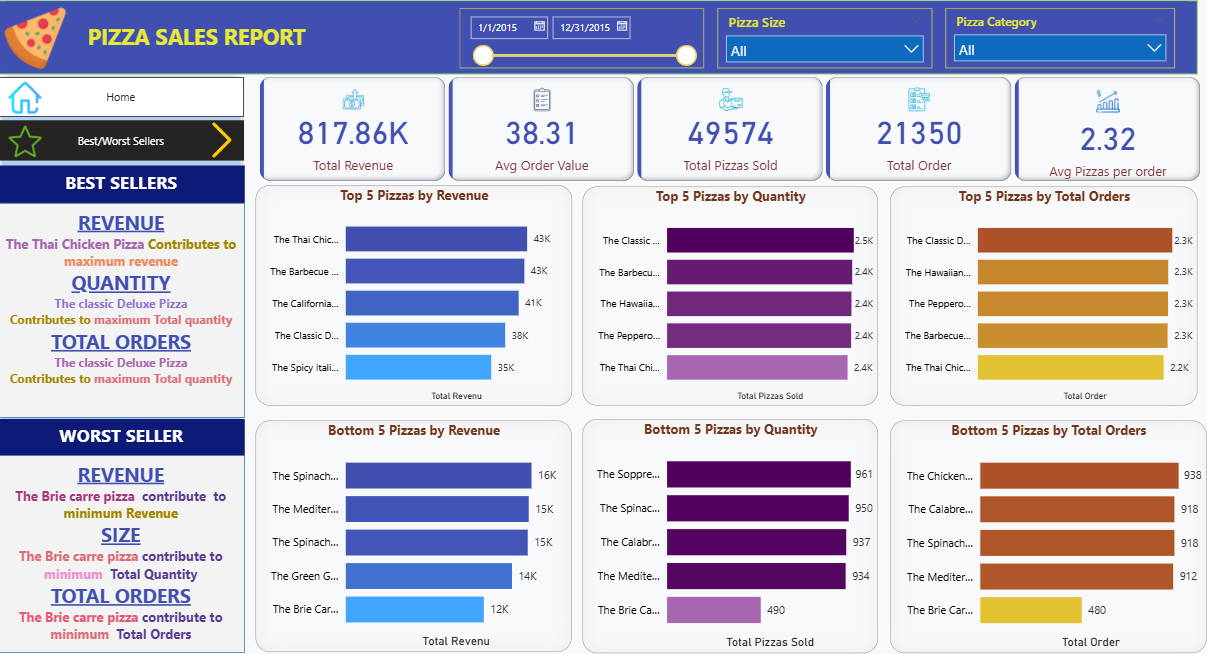

This screenshot's page, from the dashboard's own definition file:
{"tool":"powerbi","page":{"name":"Best/Worst Sellers","canvas":[1500,820],"ordinal":1},"visuals":[{"type":"cardVisual","fields":{"Data":["public pizza_sales.Total Revenu","public pizza_sales.Avg Order Value","public pizza_sales.Total Pizzas Sold","public pizza_sales.Total Order","public pizza_sales.Avg Pizzas per order"]},"box":[330.1,90.4,1169.2,138.3],"z":0},{"type":"shape","box":[12.9,1.8,1475.3,90.4],"z":1000},{"type":"textbox","box":[101.9,22.2,313,51.9],"z":2000},{"type":"image","box":[0,3.7,118.5,88.9],"z":3000},{"type":"slicer","fields":{"Values":["public pizza_sales.pizza_category"]},"box":[1178.4,11.1,282.2,73.8],"z":4000},{"type":"slicer","fields":{"Values":["public pizza_sales.pizza_size"]},"box":[898.1,11.1,263.7,73.8],"z":5000},{"type":"shape","box":[12.9,92.2,304.3,711.8],"z":6000},{"type":"textbox","box":[12.9,204.7,304.3,46.1],"z":7000},{"type":"textbox","box":[12.9,250.8,304.3,263.7],"z":8000},{"type":"textbox","box":[12.9,516.4,304.3,46.1],"z":9000},{"type":"textbox","box":[13.2,560.4,303.8,243.4],"z":10000},{"type":"slicer","fields":{"Values":["public pizza_sales.order_date"]},"box":[580.9,11.1,300.6,73.8],"z":11000},{"type":"barChart","title":"Top 5 Pizzas by Revenue","fields":{"Category":["public pizza_sales.pizza_name"],"Y":["public pizza_sales.Total Revenu"]},"box":[330.1,228.7,389.1,271.1],"z":12000},{"type":"barChart","title":"Bottom 5 Pizzas by Revenue","fields":{"Category":["public pizza_sales.pizza_name"],"Y":["public pizza_sales.Total Revenu"]},"box":[330.2,518.9,388.7,284.9],"z":13000},{"type":"barChart","title":"Top 5 Pizzas by Quantity","fields":{"Category":["public pizza_sales.pizza_name"],"Y":["public pizza_sales.Total Pizzas Sold"]},"box":[732.1,230.5,363.3,269.2],"z":14000},{"type":"barChart","title":"Top 5 Pizzas by Total Orders","fields":{"Category":["public pizza_sales.pizza_name"],"Y":["public pizza_sales.Total Order"]},"box":[1110.2,230.5,378,269.2],"z":15000},{"type":"barChart","title":"Bottom 5 Pizzas by Quantity","fields":{"Category":["public pizza_sales.pizza_name"],"Y":["public pizza_sales.Total Pizzas Sold"]},"box":[732.1,516.4,363.3,287.7],"z":16000},{"type":"barChart","title":"Bottom 5 Pizzas by Total Orders","fields":{"Category":["public pizza_sales.pizza_name"],"Y":["public pizza_sales.Total Order"]},"box":[1110.2,518.2,389.1,285.8],"z":17000},{"type":"pageNavigator","box":[13.2,96.2,303.8,49.1],"z":18000},{"type":"pageNavigator","box":[13.2,149.1,303.8,49.1],"z":19000},{"type":"image","box":[247.2,145.3,83,54.7],"z":20000},{"type":"image","box":[11.3,96.2,71.7,50.9],"z":20001},{"type":"image","box":[17,149.1,60.4,50.9],"z":20002}]}

Visuals, with their boxes in screenshot pixels (x1, y1, x2, y2), scaled from the page's 1500x820 canvas onto the 1207x654 screenshot:
cardVisual - public pizza_sales.Total Revenu x public pizza_sales.Avg Order Value: 266 72 1206 182
shape: 10 1 1198 74
textbox: 82 18 334 59
image: 0 3 95 74
slicer - public pizza_sales.pizza_category: 948 9 1175 68
slicer - public pizza_sales.pizza_size: 723 9 935 68
shape: 10 74 255 641
textbox: 10 163 255 200
textbox: 10 200 255 410
textbox: 10 412 255 449
textbox: 11 447 255 641
slicer - public pizza_sales.order_date: 467 9 709 68
"Top 5 Pizzas by Revenue" barChart: 266 182 579 399
"Bottom 5 Pizzas by Revenue" barChart: 266 414 578 641
"Top 5 Pizzas by Quantity" barChart: 589 184 881 399
"Top 5 Pizzas by Total Orders" barChart: 893 184 1198 399
"Bottom 5 Pizzas by Quantity" barChart: 589 412 881 641
"Bottom 5 Pizzas by Total Orders" barChart: 893 413 1206 641
pageNavigator: 11 77 255 116
pageNavigator: 11 119 255 158
image: 199 116 266 160
image: 9 77 67 117
image: 14 119 62 160
